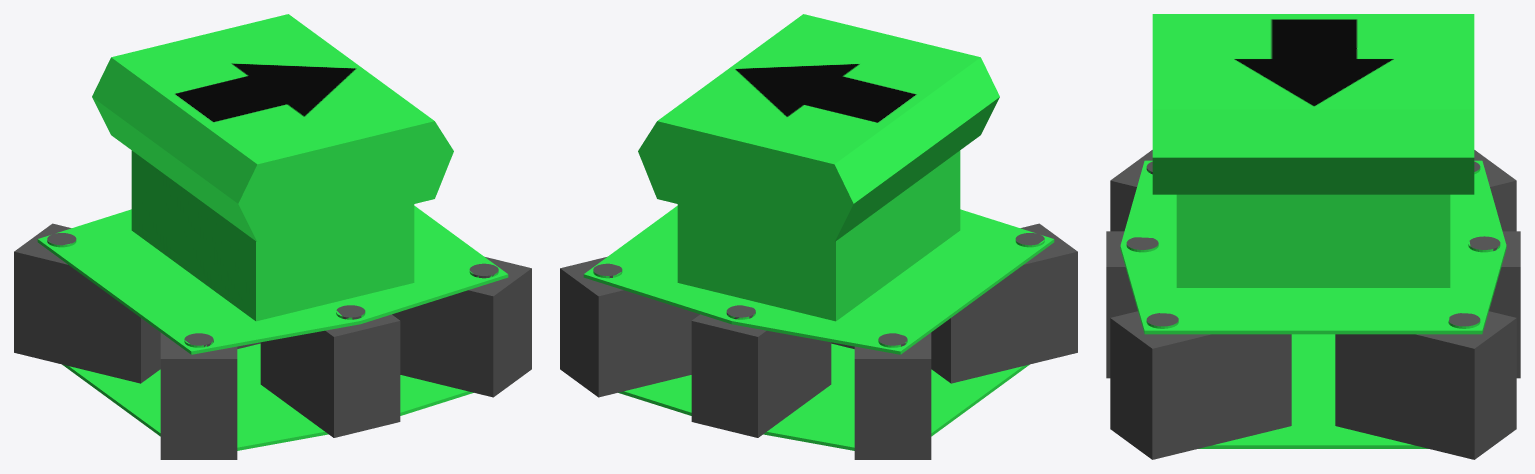
3 renders of one model, left to right at view 1: azimuth 30°, elevation 25°; view 2: azimuth 150°, elevation 25°; view 3: azimuth 270°, elevation 25°, orthographic. The views are drawn at different scales.
Visible parts, largest first — view 1: Base Link; view 2: Base Link; view 3: Base Link.
Boxes of the visible parts, x1,y1,x2,y2 form: Base Link: (14,14,531,459); Base Link: (560,14,1077,459); Base Link: (1106,14,1520,459).
Size of the model in its own units: 0.1172 by 0.103 by 0.0836.
Materials: 2 (1 with a texture image).
